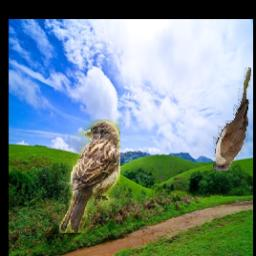Cuckoo: (213, 66, 252, 171)
Sparrow: (59, 120, 120, 234)
